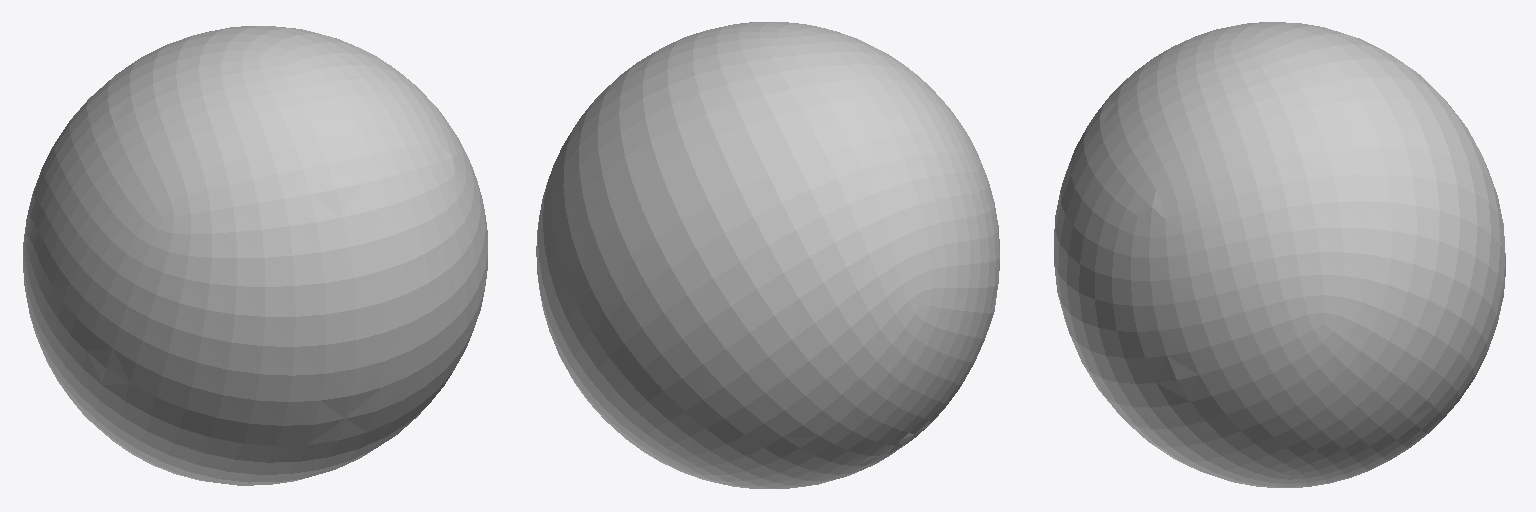
File: facebookPyramid_mesh.obj
3 renders of one model, left to right at view 1: azimuth 30°, elevation 25°; view 2: azimuth 150°, elevation 25°; view 3: azimuth 270°, elevation 25°, orthographic.
Parts seen in each view (by area): view 1: facebookPyramid; view 2: facebookPyramid; view 3: facebookPyramid.
Part boxes in pixels (x1,y1,x2,y2): facebookPyramid: (23,26,487,485); facebookPyramid: (536,22,999,488); facebookPyramid: (1054,22,1505,487).
Size of the model in its own units: 1.01 by 1.01 by 0.9749.